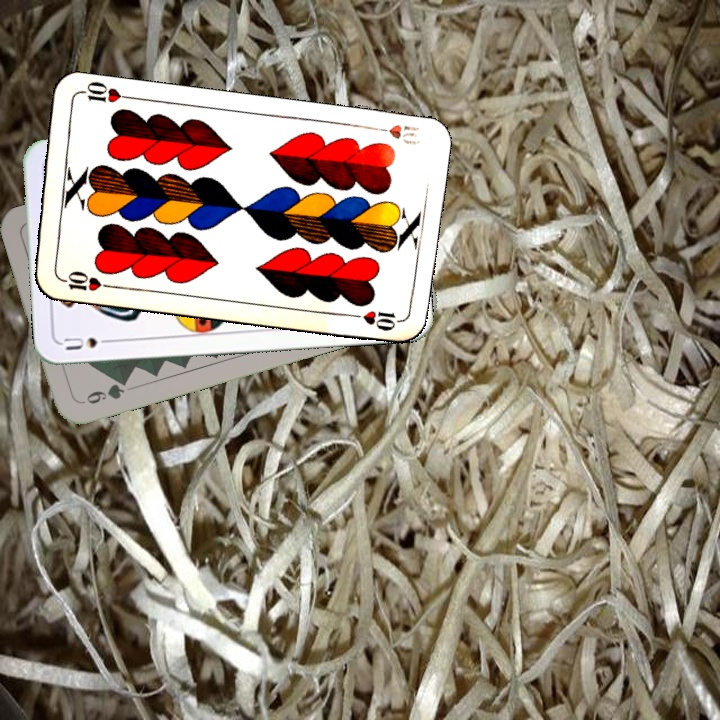G9: (76, 375, 131, 407)
H10: (55, 266, 114, 294), (366, 120, 422, 147)
SU: (59, 333, 118, 353)
